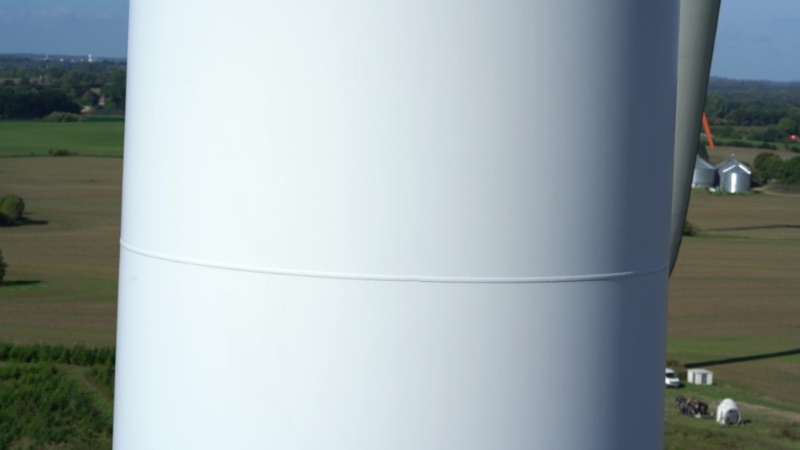weldseam: (118, 233, 671, 287)
